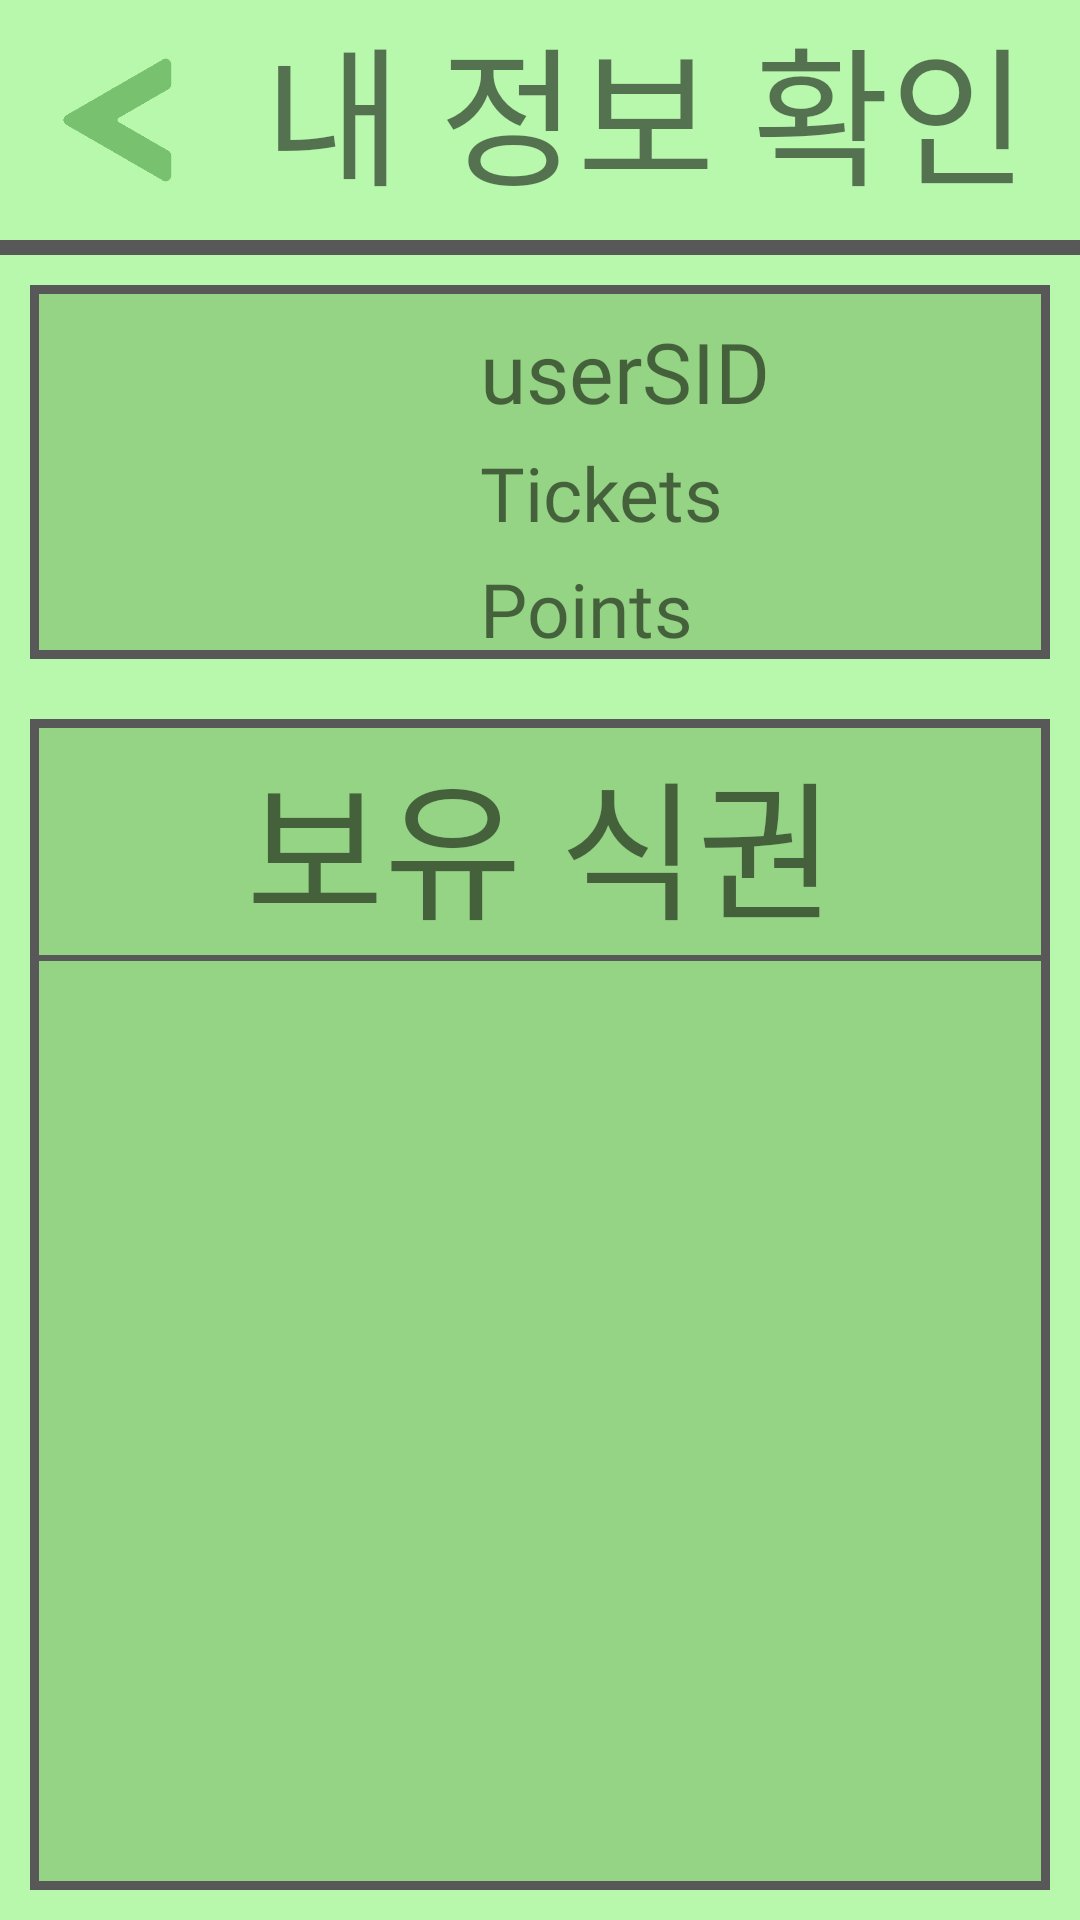

Icon bounding boxes for this 1080px x 1920px phone screenshot, format (x1, y1, x2, y2):
gobackicon: (63, 58, 171, 182)
